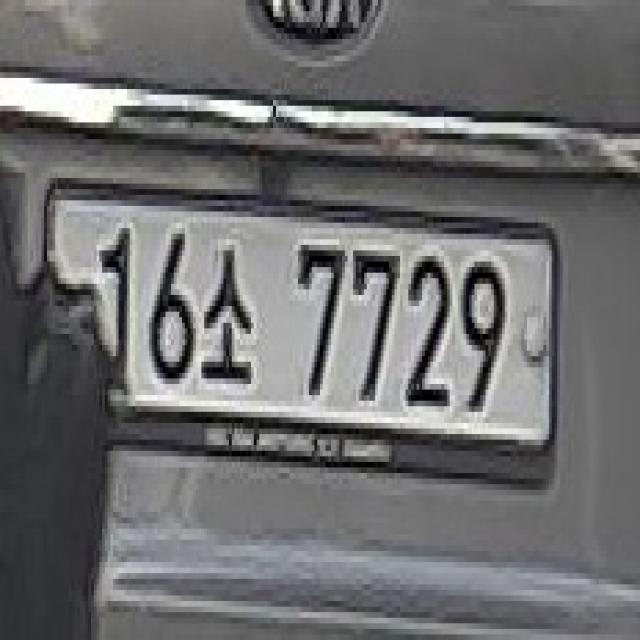1: (94, 217, 138, 401)
2: (403, 234, 455, 428)
6: (146, 223, 202, 395)
7: (292, 222, 348, 412), (350, 228, 403, 418)
9: (452, 240, 508, 428)
license_plate: (36, 178, 560, 501)
so: (202, 222, 256, 400)
